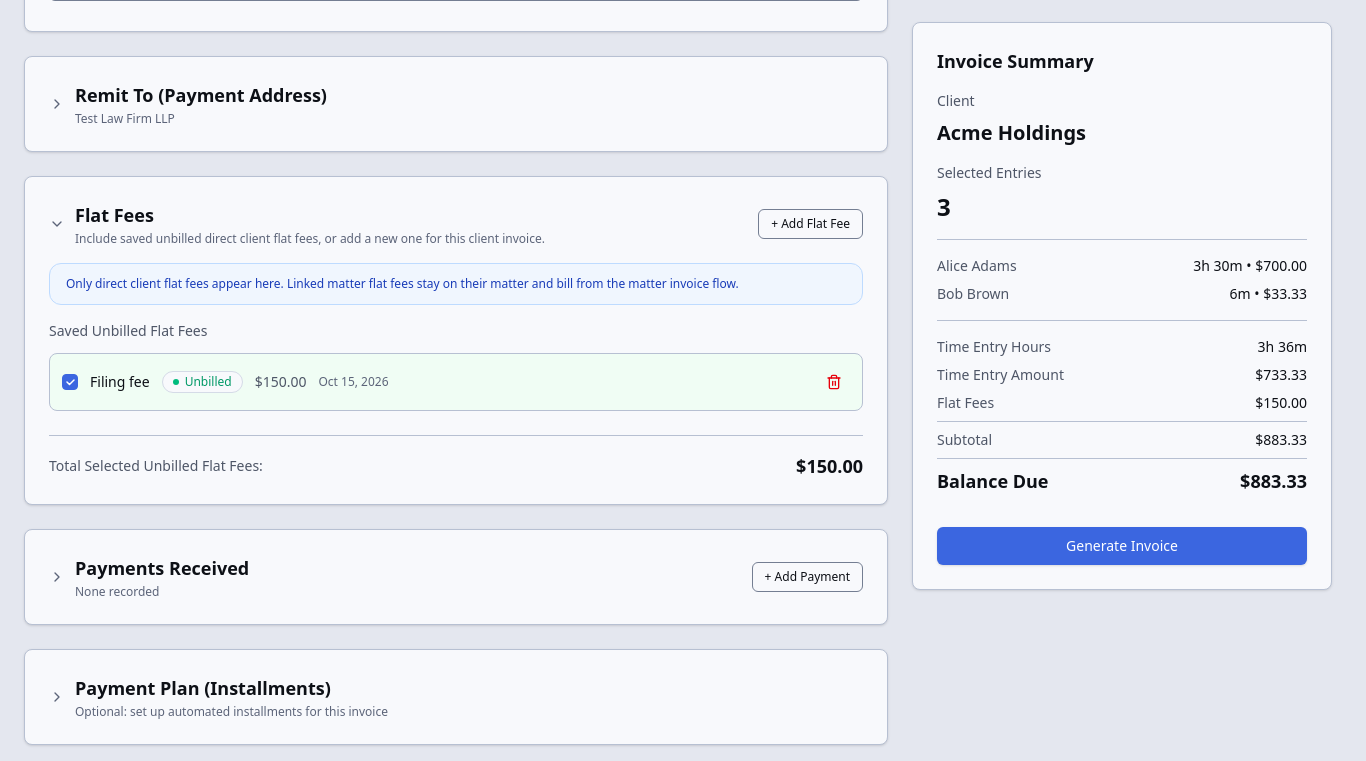
Test: client generate-invoice flat fees › deletes a saved flat fee on the server and reports a refusal
The image size is (1366, 761).
(page scrolled)
Click the button named "Remove flat fee". click: (834, 382)
box: [818,366,850,398]
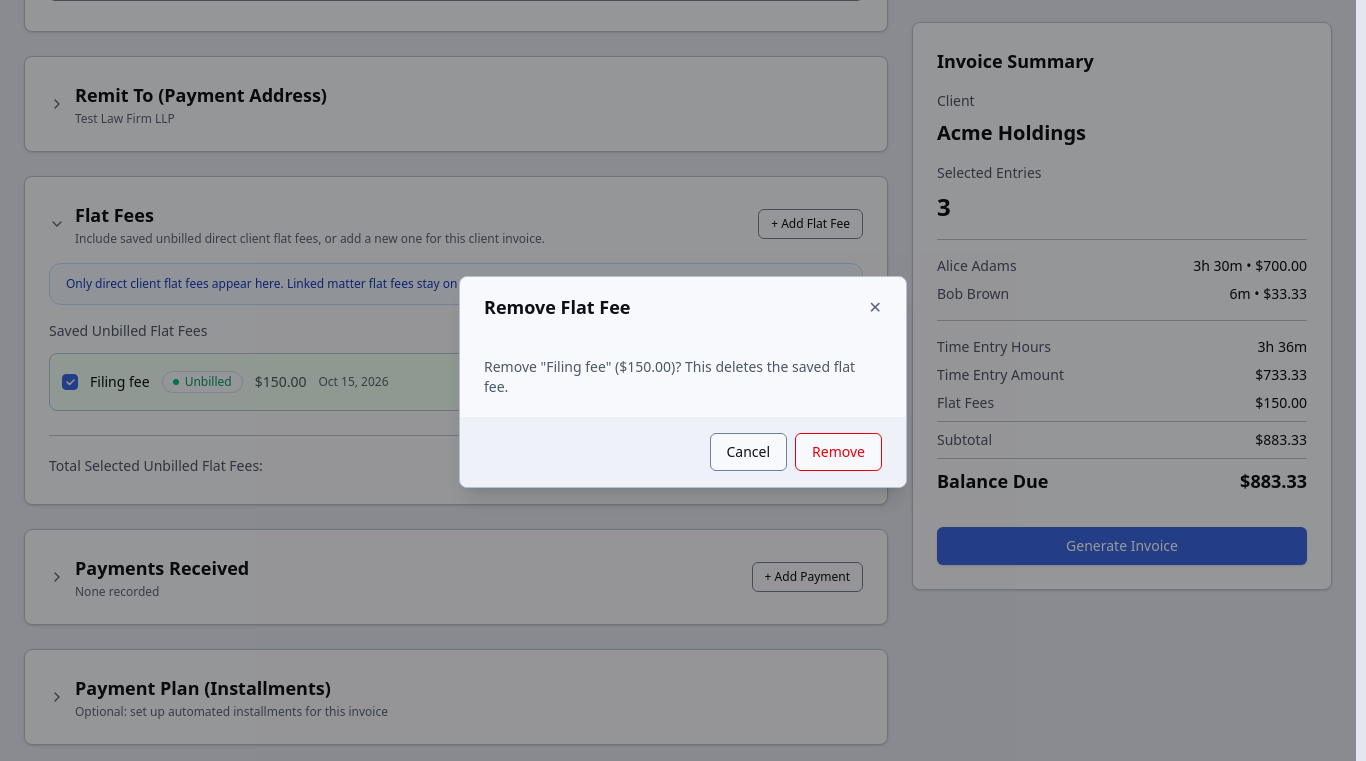
Click the button "Remove". click: (839, 452)
box: [795,433,882,471]
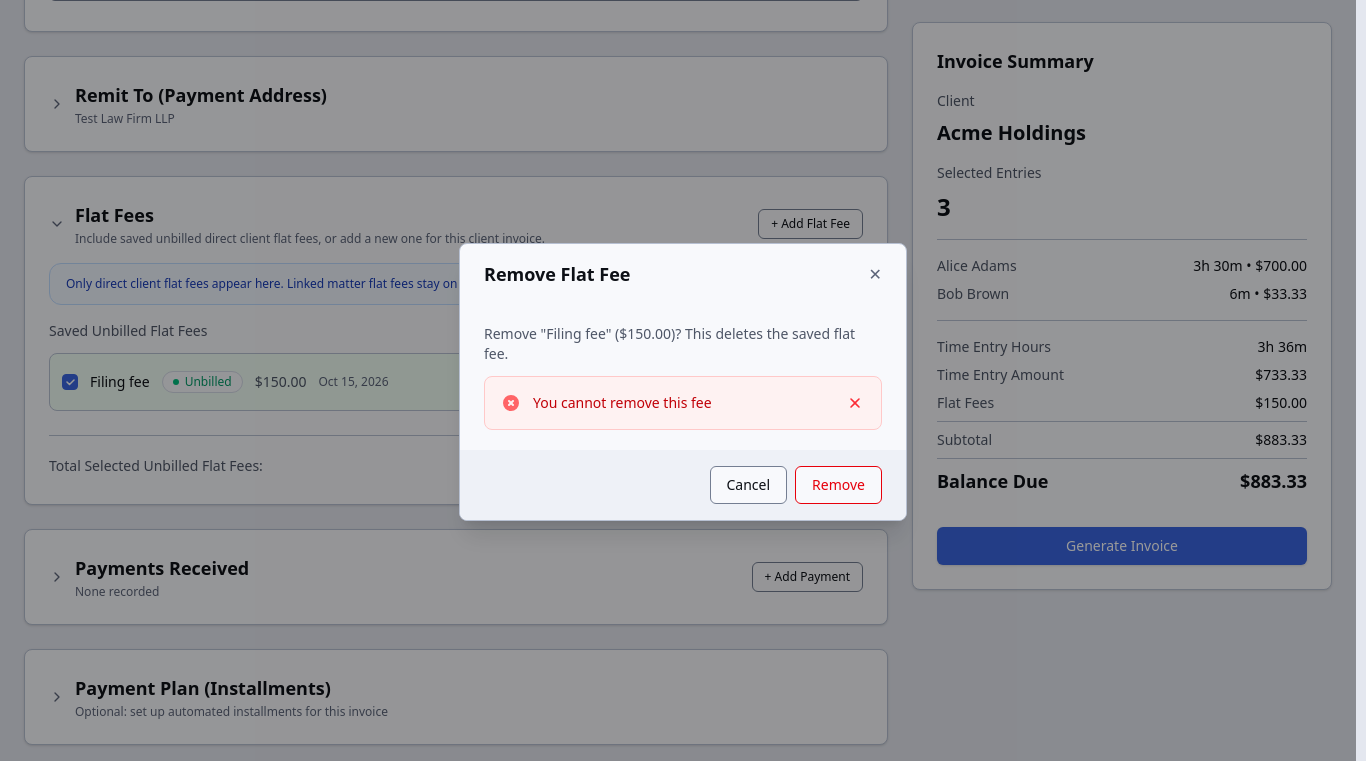
Expected: the text "You cannot remove this fee" is shown, [533,393,712,412]
